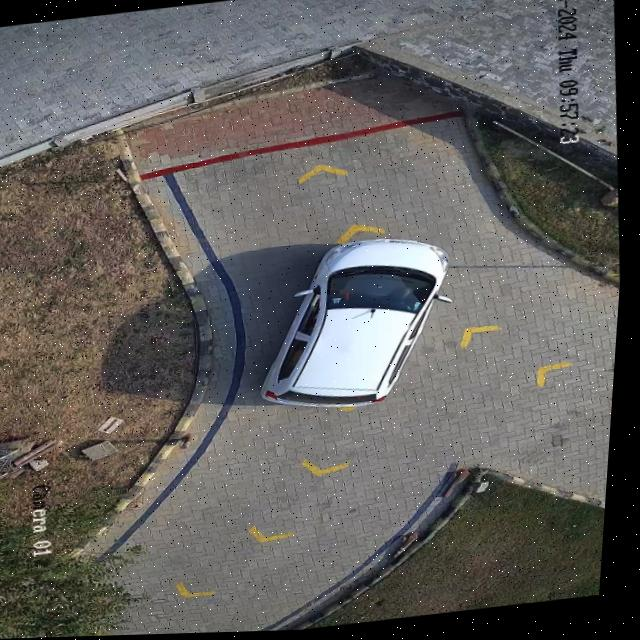car: (266, 241, 450, 409), (339, 227, 387, 246)
